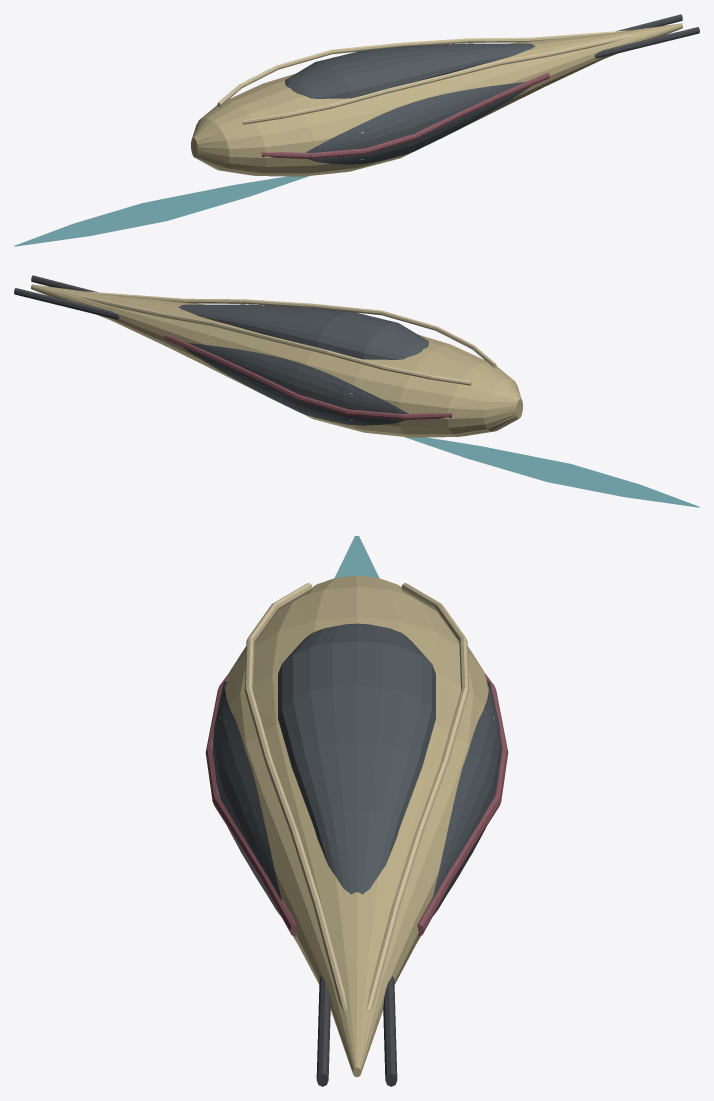
The model's file is niruch_gold_flight.glb.
The picture shows the model from 3 angles, top to bottom: view 1: azimuth 30°, elevation 25°; view 2: azimuth 150°, elevation 25°; view 3: azimuth 270°, elevation 25°; orthographic projection. The views are drawn at different scales.
Visible parts, largest first — view 1: main_hull_0, canopy_2, side_window_1, ground_wake, golden_upper_rail_3, side_sweep_4, front_fork_5; view 2: main_hull_0, canopy_2, side_window_1, ground_wake, golden_upper_rail_3, side_sweep_4, front_fork_5; view 3: main_hull_0, canopy_2, side_window_1, golden_upper_rail_3, side_sweep_4, front_fork_5, ground_wake.
Part boxes in pixels (x1,y1,x2,y2): main_hull_0: [191, 23, 682, 176]; canopy_2: [285, 43, 535, 98]; side_window_1: [305, 82, 530, 164]; ground_wake: [14, 176, 309, 246]; golden_upper_rail_3: [217, 30, 633, 124]; side_sweep_4: [261, 72, 549, 158]; front_fork_5: [594, 14, 699, 58]; main_hull_0: [31, 284, 522, 437]; canopy_2: [178, 304, 428, 359]; side_window_1: [183, 343, 408, 425]; ground_wake: [404, 437, 699, 507]; golden_upper_rail_3: [80, 291, 496, 385]; side_sweep_4: [164, 333, 452, 419]; front_fork_5: [14, 275, 119, 319]; main_hull_0: [219, 575, 494, 1077]; canopy_2: [278, 623, 435, 894]; side_window_1: [212, 681, 501, 915]; golden_upper_rail_3: [244, 583, 469, 1011]; side_sweep_4: [205, 673, 508, 936]; front_fork_5: [316, 976, 397, 1086]; ground_wake: [334, 536, 379, 578].
Size of the model in its own units: 11.08 by 1.6 by 2.15.
